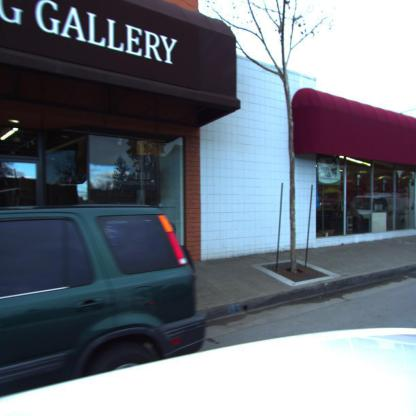car: (0, 203, 205, 403)
